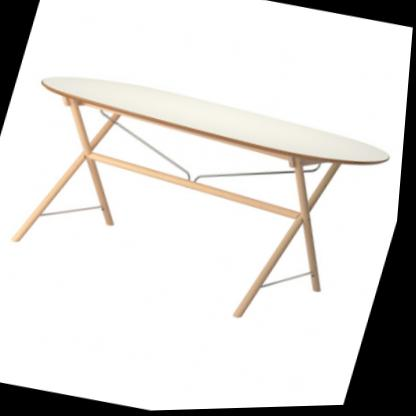Table: (0, 53, 409, 352)
